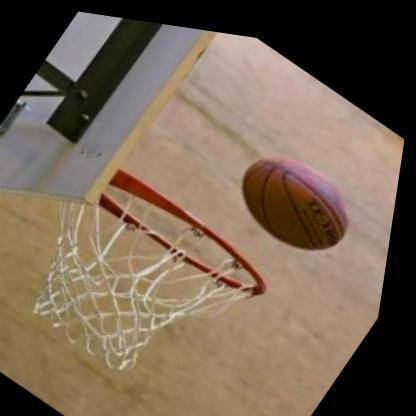basketball: (217, 115, 385, 270)
